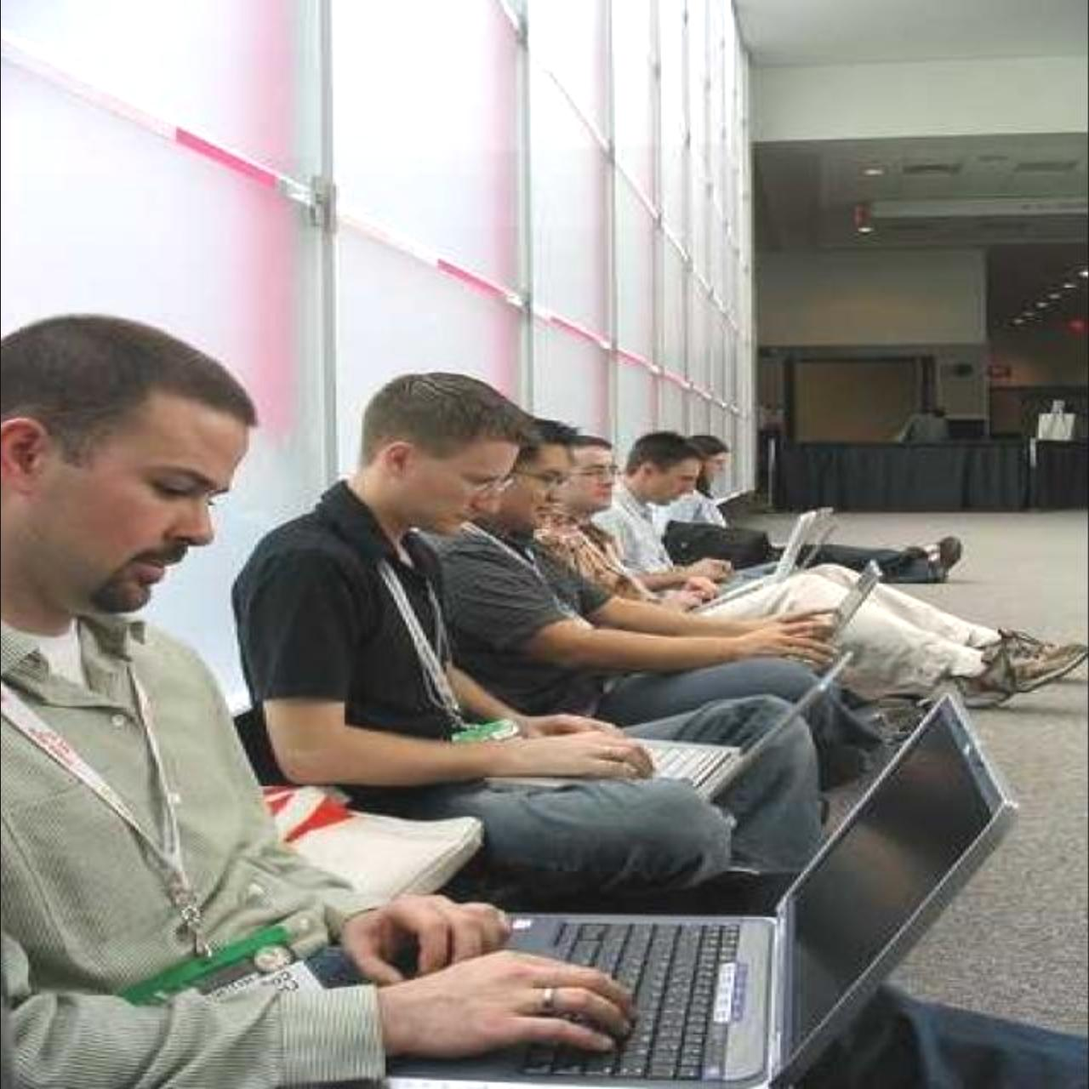laptop: (413, 735, 1016, 1089), (507, 659, 841, 798), (723, 562, 883, 643), (728, 502, 824, 587)
